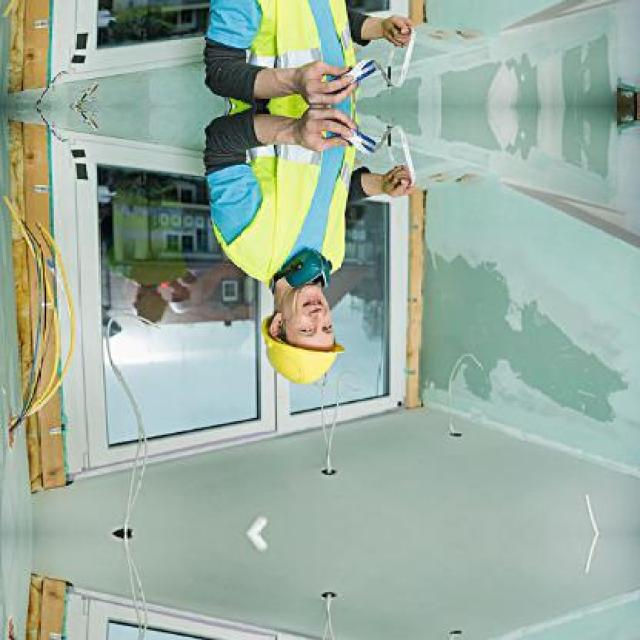safetyhelmet: (256, 284, 346, 388)
